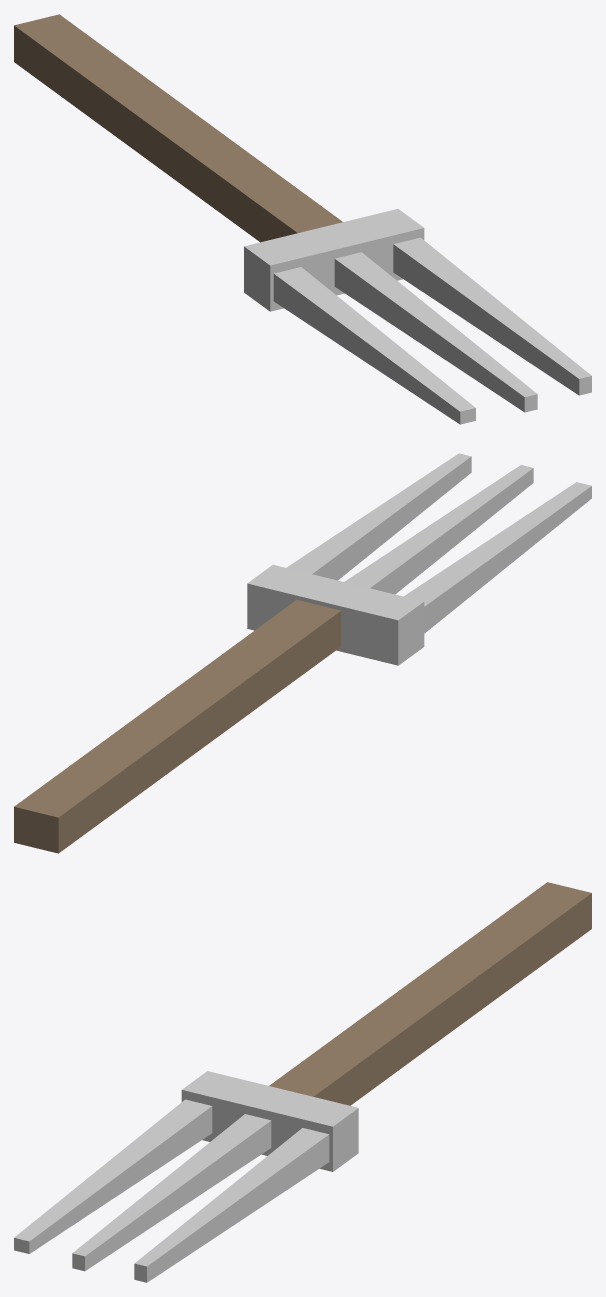
File: food8.fbx
3 views of the same model, one above another, from view 1: azimuth 30°, elevation 25°; view 2: azimuth 150°, elevation 25°; view 3: azimuth 330°, elevation 25° (orthographic).
Visible parts, largest first — view 1: Cube_3; view 2: Cube_3; view 3: Cube_3.
Boxes of the visible parts, bbox=[...] form: Cube_3: bbox=[14, 14, 591, 424]; Cube_3: bbox=[14, 453, 591, 853]; Cube_3: bbox=[14, 882, 591, 1282].
Size of the model in its own units: 2.86 by 0.8198 by 16.
